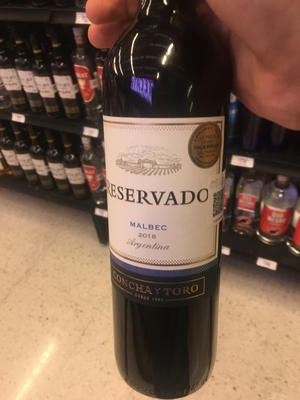reservado malbec: (90, 6, 241, 389)
